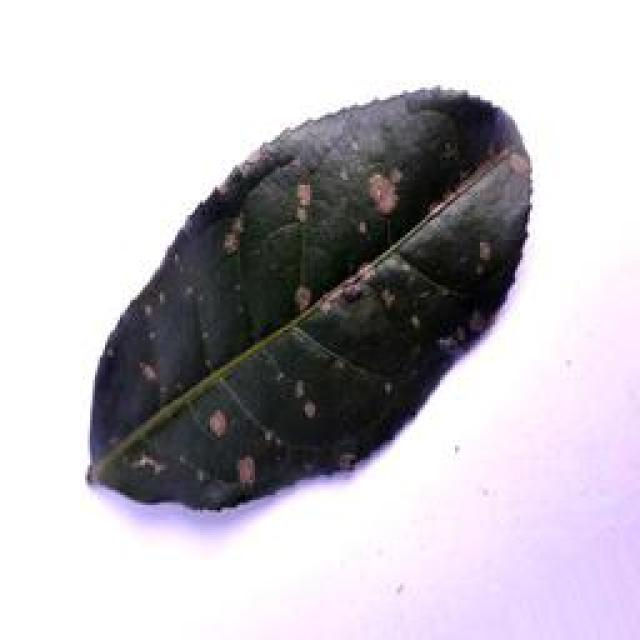Algal Leaf Spot: (57, 64, 576, 520)
